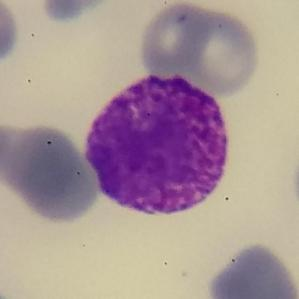Basophil: (74, 67, 241, 224)
RBC: (7, 122, 106, 226), (184, 11, 263, 96), (137, 0, 214, 76), (203, 240, 299, 299), (0, 119, 40, 191), (38, 0, 116, 24), (0, 0, 22, 73), (290, 142, 299, 225)
